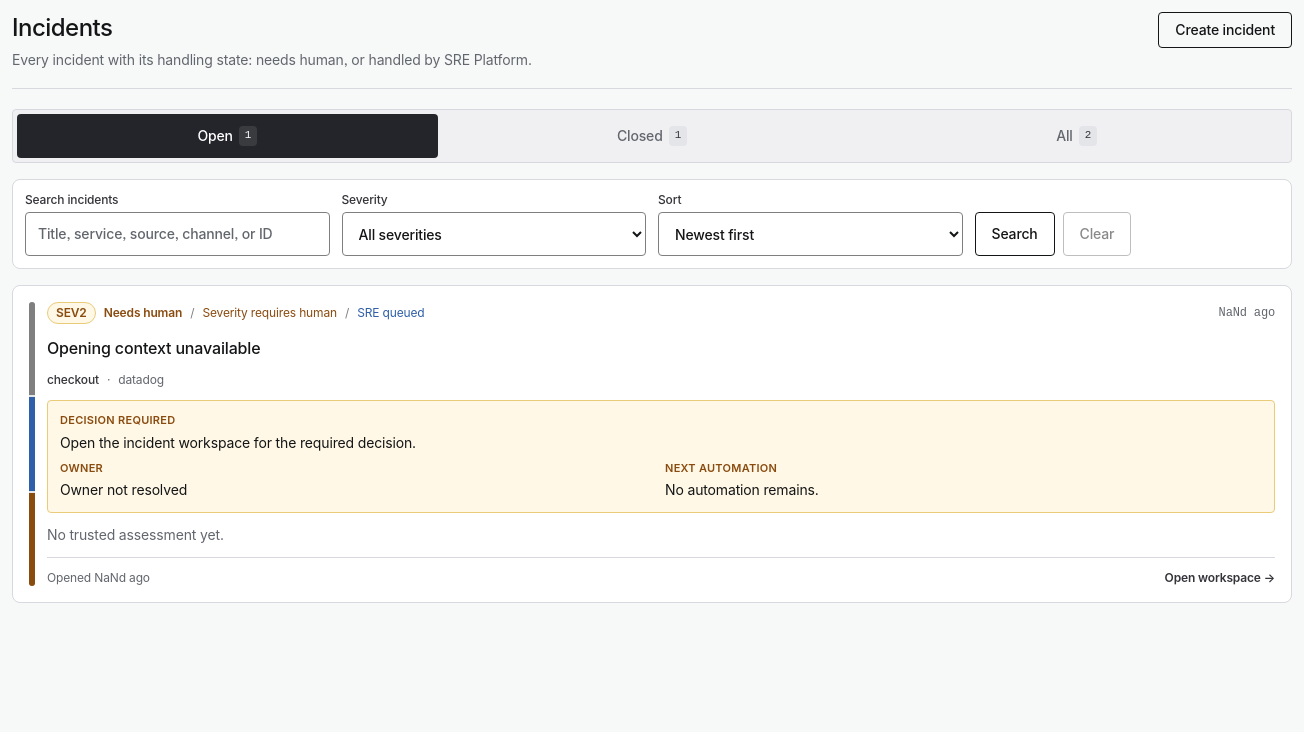
Test: IncidentsPanel status tabs › C3→C2: clicking Closed shows only resolved; clicking Open restores
This screenshot has width=1304, height=732.
Step 1. Click the tab "Closed 1" → {"x": 652, "y": 136}, box x1=442 y1=114 x2=862 y2=158
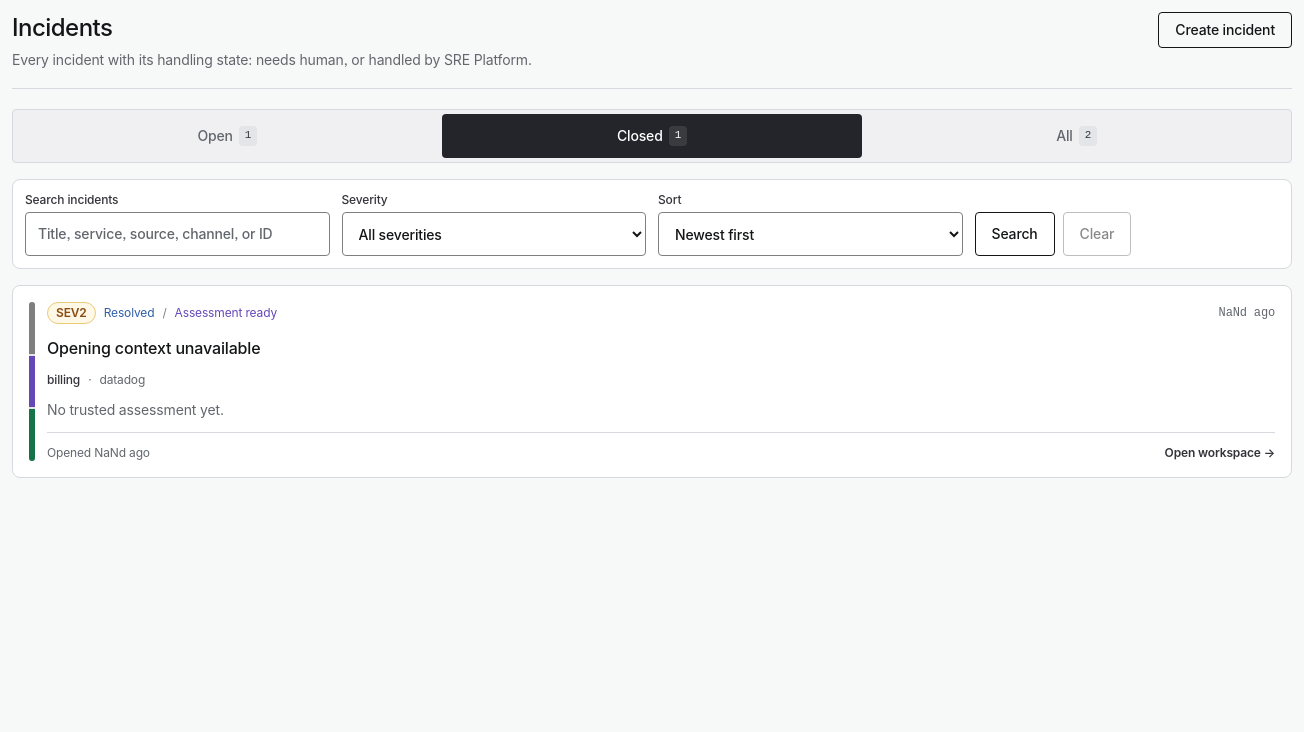
Check: the text "billing" is shown, box x1=47 y1=372 x2=80 y2=388
Check: the link "checkout" is gone
Step 2. Click the tab "Open 1" → {"x": 227, "y": 136}, box x1=17 y1=114 x2=438 y2=158
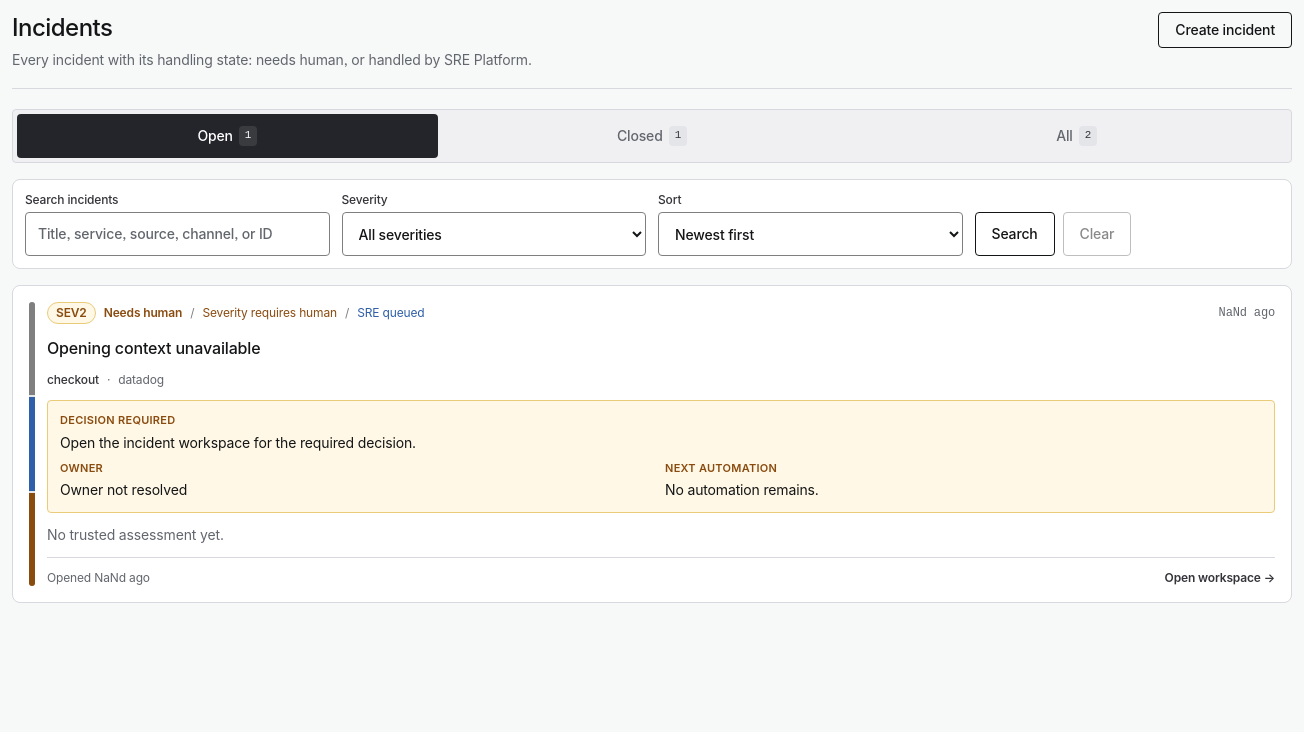
Check: the text "checkout" is shown, box x1=47 y1=372 x2=99 y2=388
Check: the link "billing" is gone
